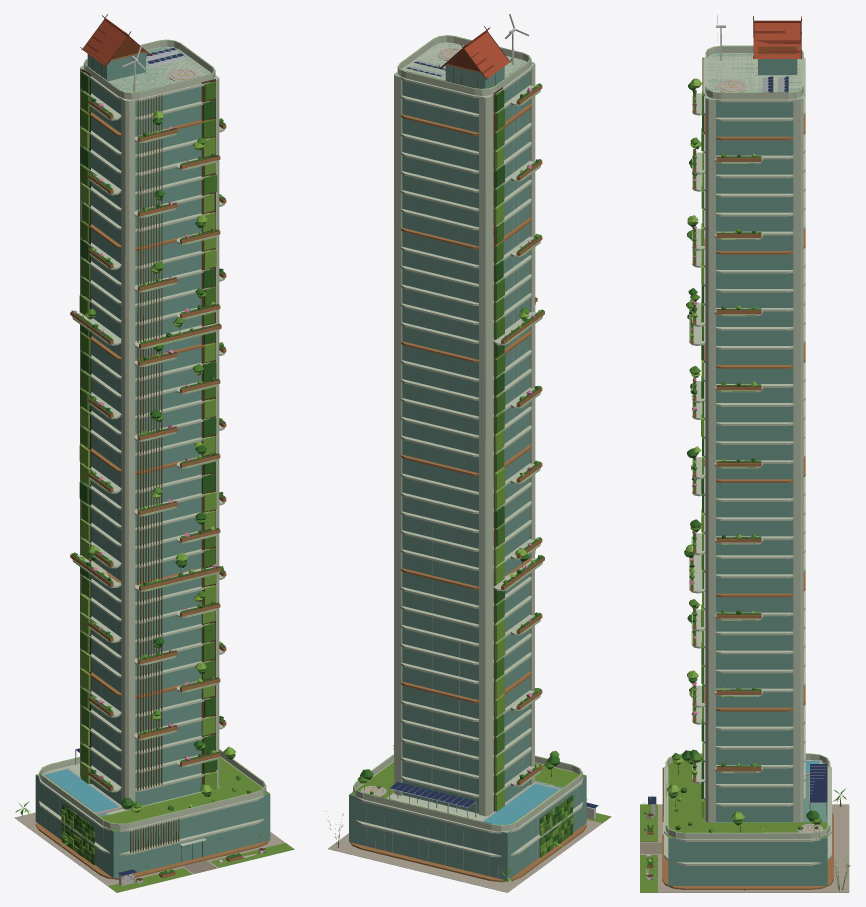
The model's file is home_5.glb.
The picture shows the model from 3 angles, left to right: view 1: azimuth 30°, elevation 25°; view 2: azimuth 150°, elevation 25°; view 3: azimuth 270°, elevation 25°; orthographic projection. The views are drawn at different scales.
Parts seen in each view (by area): view 1: body, windows; view 2: body, windows; view 3: body, windows.
Part boxes in pixels (x1=…): body: x1=14, y1=14, x2=294, y2=892; windows: x1=40, y1=39, x2=265, y2=823; body: x1=324, y1=14, x2=611, y2=892; windows: x1=353, y1=35, x2=581, y2=825; body: x1=640, y1=14, x2=850, y2=892; windows: x1=666, y1=45, x2=829, y2=832.
Size of the model in its own units: 34.3 by 138 by 32.3.
